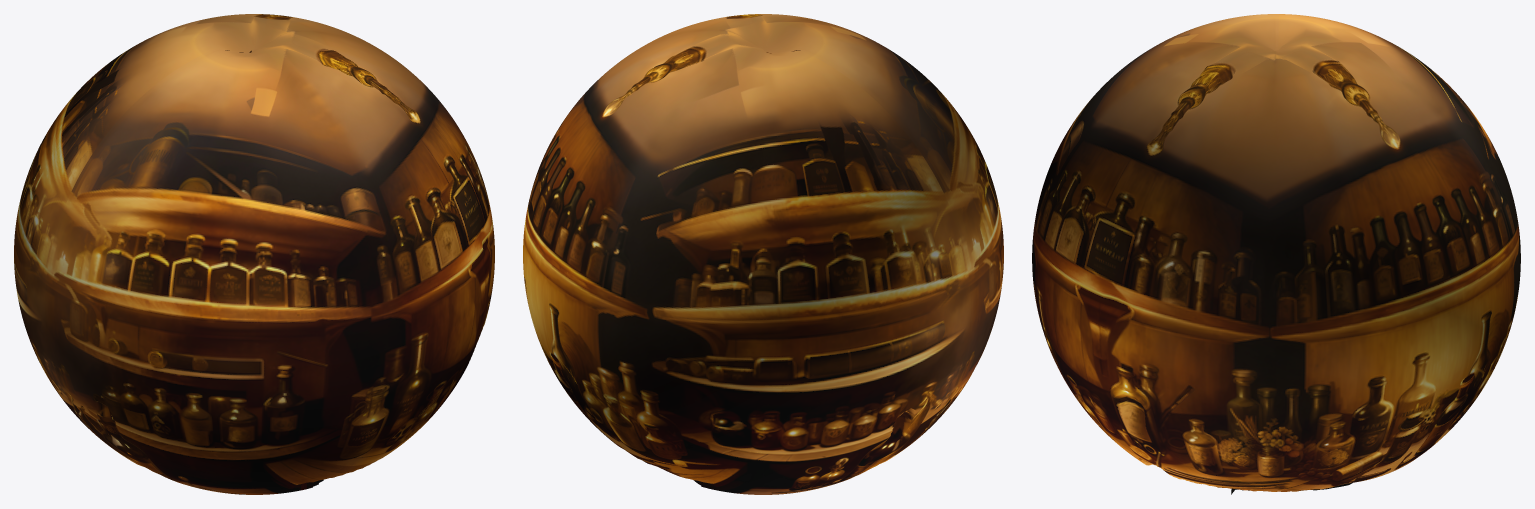
Rendered from curie_lab.glb.
The picture shows the model from 3 angles, left to right: view 1: azimuth 30°, elevation 25°; view 2: azimuth 150°, elevation 25°; view 3: azimuth 270°, elevation 25°; orthographic projection.
Parts seen in each view (by area): view 1: skybox_mesh_0; view 2: skybox_mesh_0; view 3: skybox_mesh_0.
Part boxes in pixels (x1,y1,x2,y2): skybox_mesh_0: (14,14,494,494); skybox_mesh_0: (523,14,1003,494); skybox_mesh_0: (1032,14,1520,494).
Size of the model in its own units: 10.37 by 10.21 by 10.37.
1 material, 1 textured.
